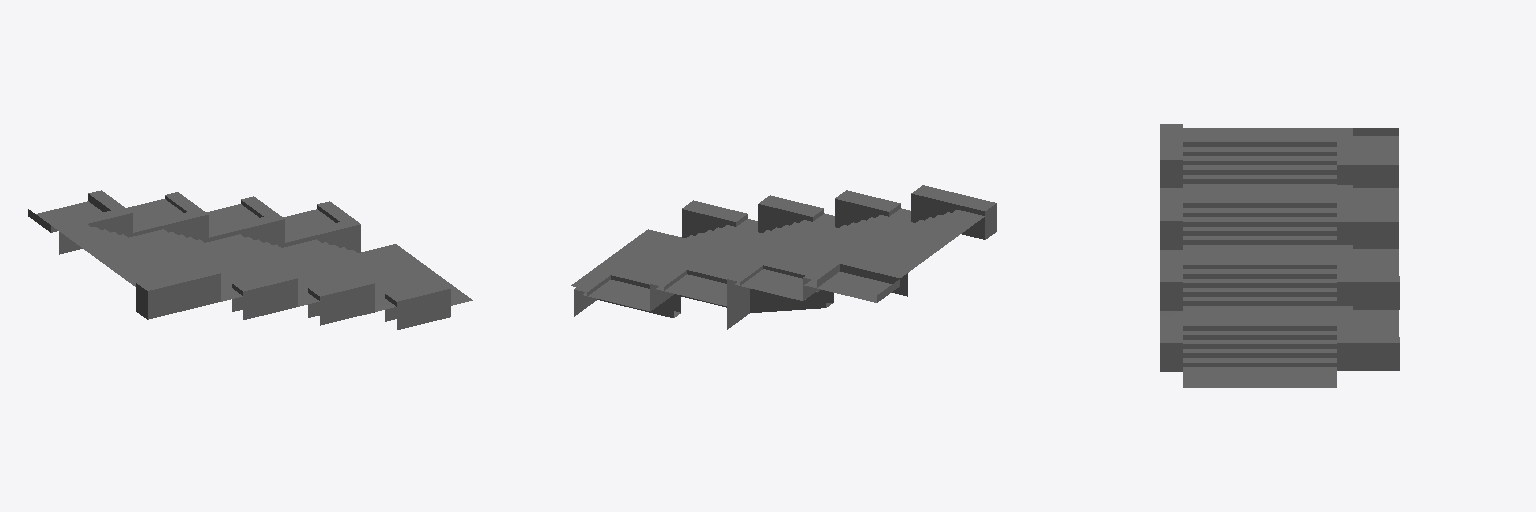
The model's file is EnvironmentStairs.obj.
3 views of the same model, side by side, from view 1: azimuth 30°, elevation 25°; view 2: azimuth 150°, elevation 25°; view 3: azimuth 270°, elevation 25° (orthographic).
Visible parts, largest first — view 1: Cube; view 2: Cube; view 3: Cube.
Boxes of the visible parts, box(x1,y1,x2,y2) form: Cube: box(28, 190, 472, 329); Cube: box(571, 185, 996, 329); Cube: box(1160, 124, 1399, 387).
Size of the model in its own units: 12.6 by 3.57 by 7.79.